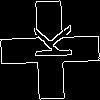K: (25, 25, 72, 60)
